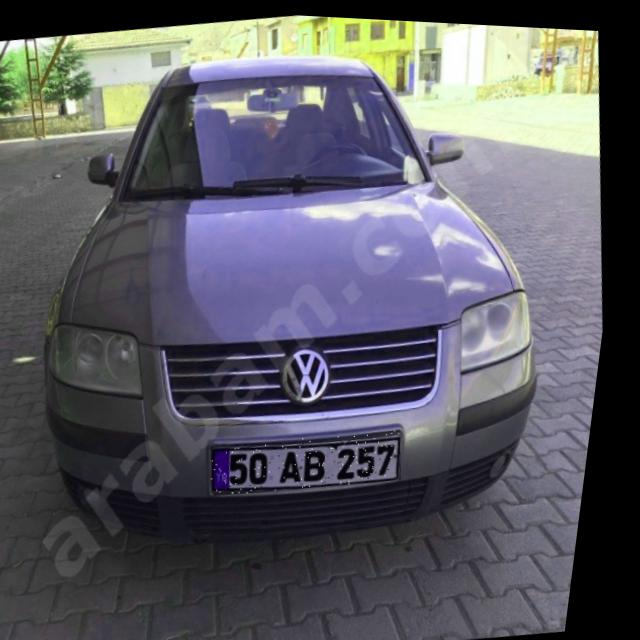license_plate: (217, 417, 418, 501)
